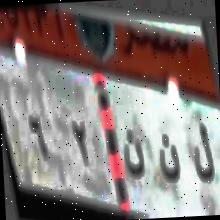2: (68, 113, 94, 170)
6: (24, 105, 53, 165)
laam: (189, 119, 217, 190)
noon: (157, 126, 183, 198), (120, 125, 150, 181)
